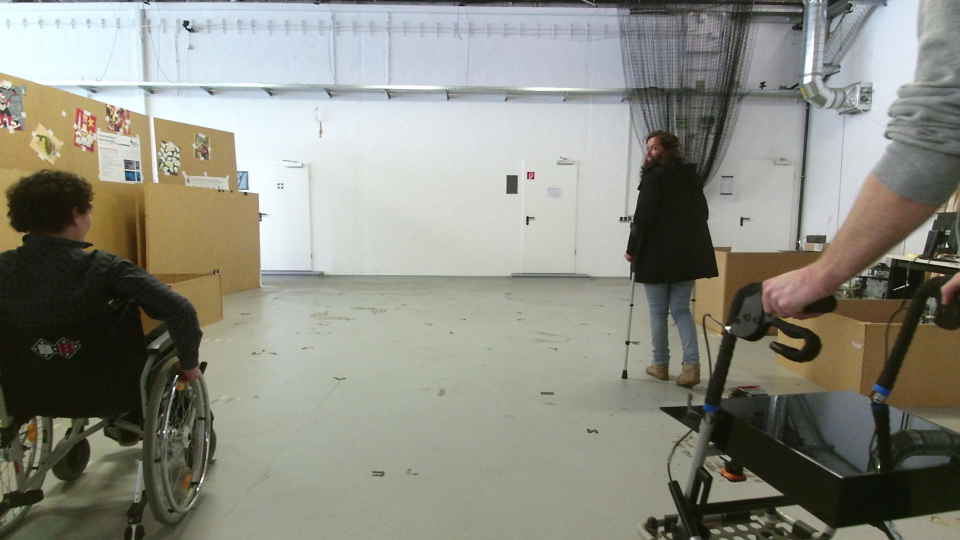crutches: (614, 122, 718, 393)
wheelchair: (1, 165, 221, 540)
